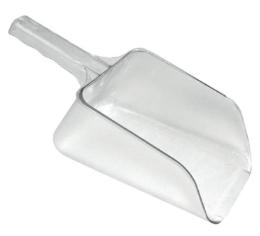PELLE: (0, 10, 260, 224)
